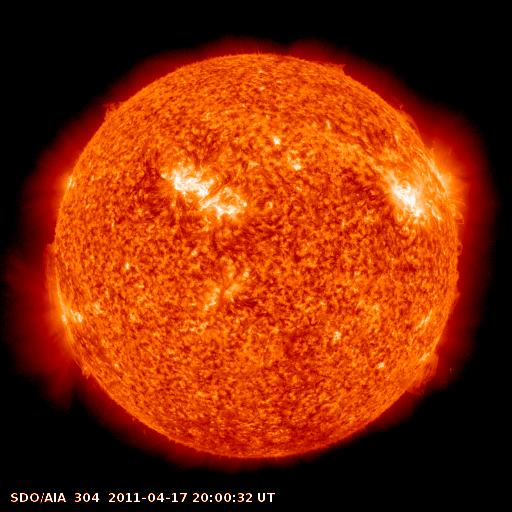prominence: (36, 237, 104, 384), (395, 344, 449, 399), (308, 48, 355, 83), (94, 94, 135, 129), (391, 98, 427, 137)
